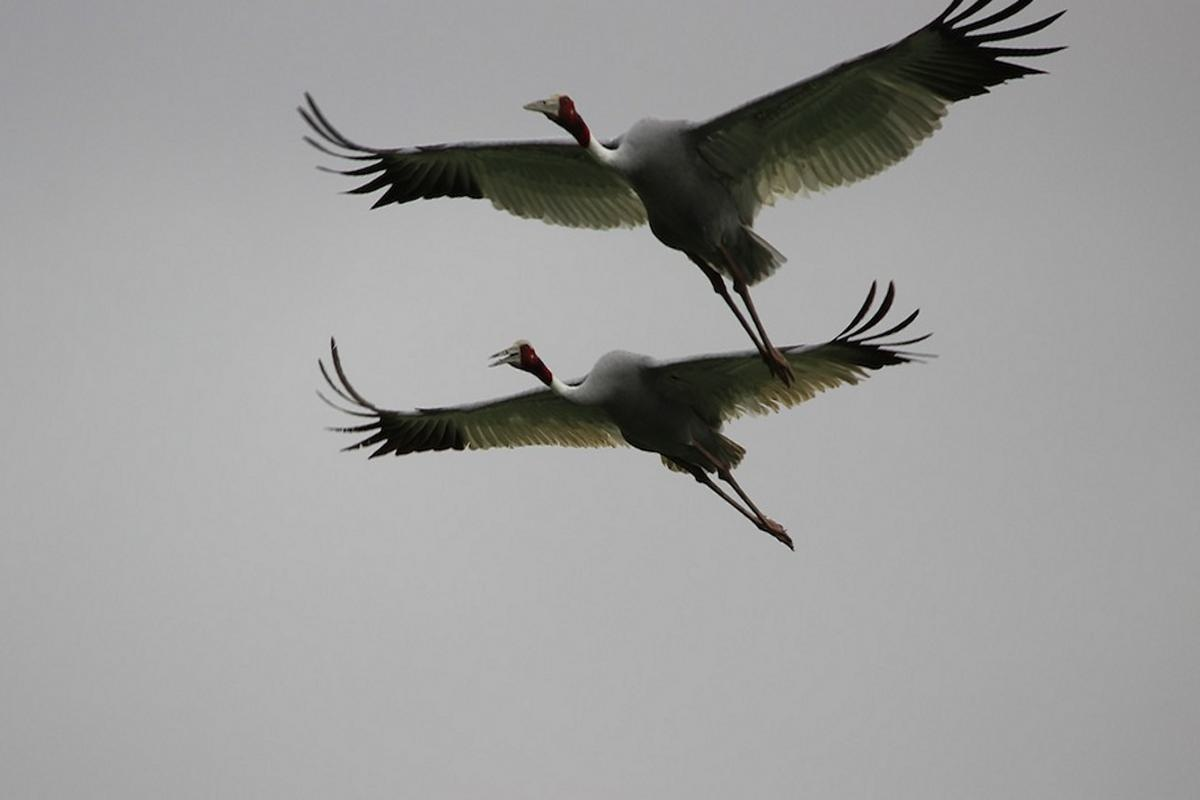crane: (294, 20, 1078, 337), (293, 313, 951, 562)
